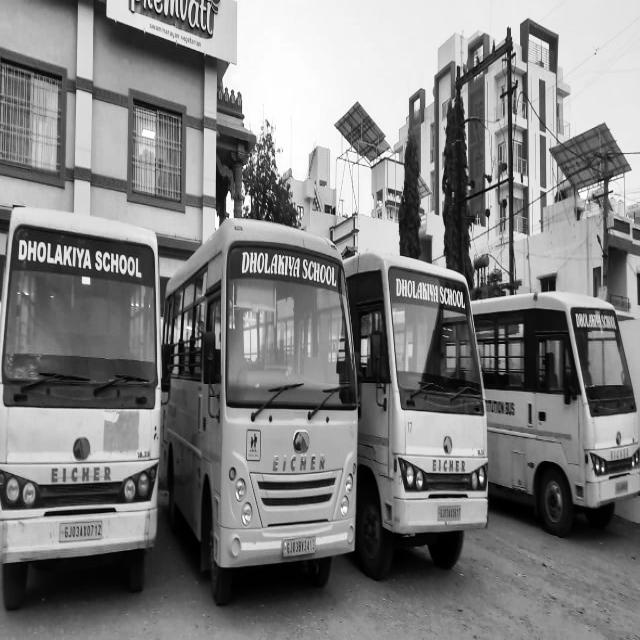Bus: (170, 216, 364, 606), (0, 200, 167, 594), (350, 237, 498, 597), (478, 267, 638, 547)
